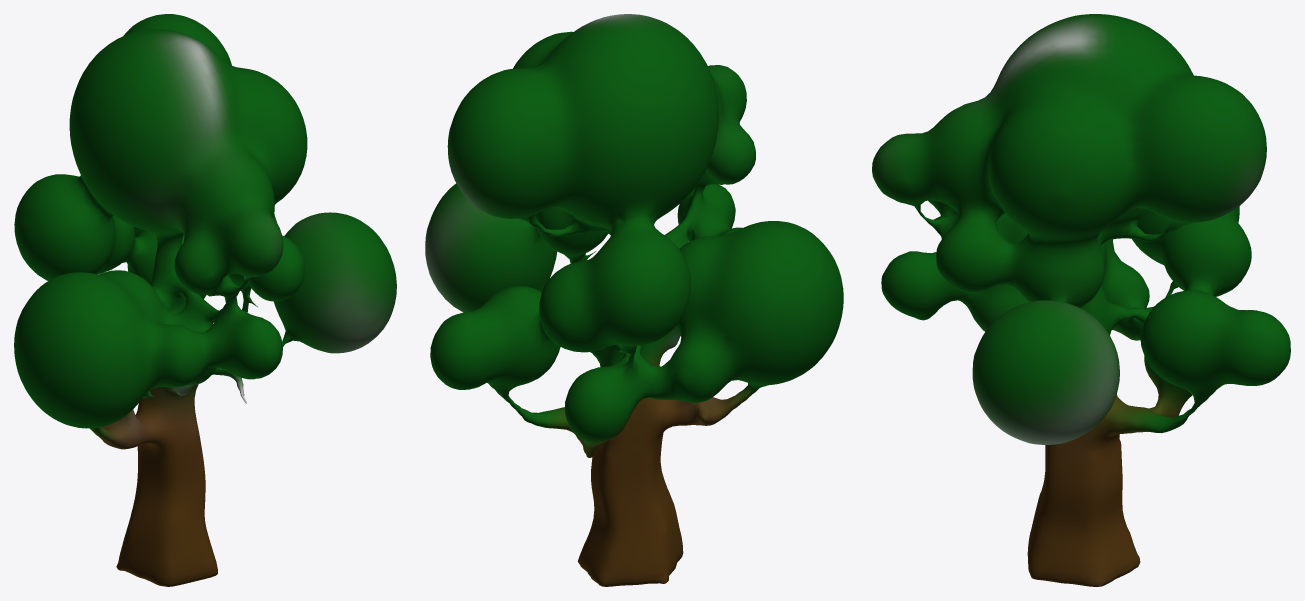
The model's file is Bubbled_1.glb.
3 views of the same model, side by side, from view 1: azimuth 30°, elevation 25°; view 2: azimuth 150°, elevation 25°; view 3: azimuth 270°, elevation 25° (orthographic). The views are drawn at different scales.
Visible parts, largest first — view 1: Bubbled_1; view 2: Bubbled_1; view 3: Bubbled_1.
Part boxes in pixels (x1,y1,x2,y2): Bubbled_1: (14, 14, 396, 586); Bubbled_1: (425, 14, 843, 586); Bubbled_1: (872, 14, 1290, 586).
Bounding box in the file's own units: 3.11 × 4.23 × 2.93.
